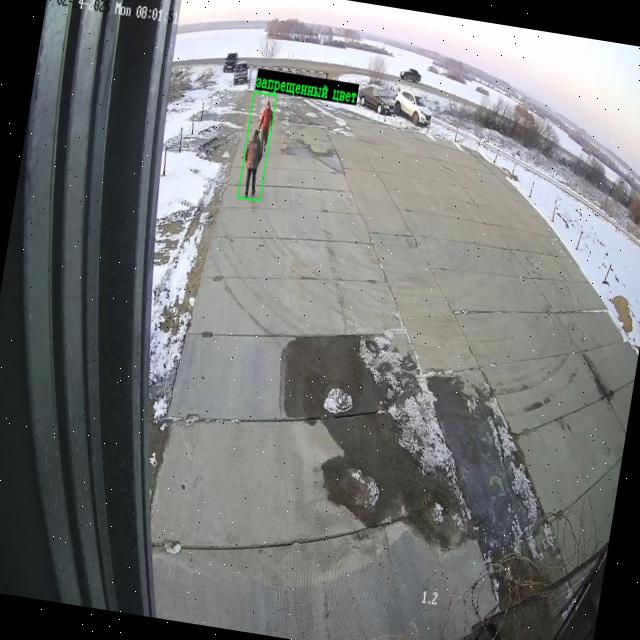Person: (244, 130, 263, 196)
Red uniform: (259, 100, 272, 151)
